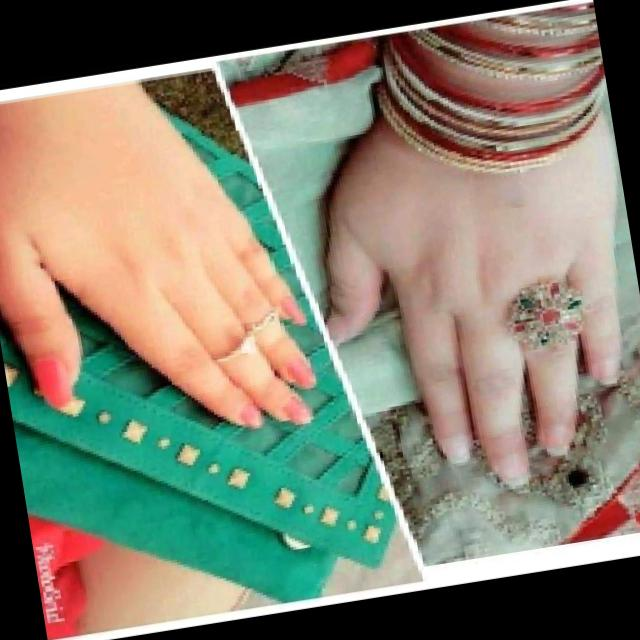Nail: (35, 358, 71, 407), (500, 459, 528, 489), (544, 424, 566, 456), (282, 400, 312, 423), (327, 318, 351, 346), (288, 362, 313, 388), (444, 436, 468, 463), (597, 354, 616, 384), (282, 299, 303, 324), (241, 406, 260, 429)
